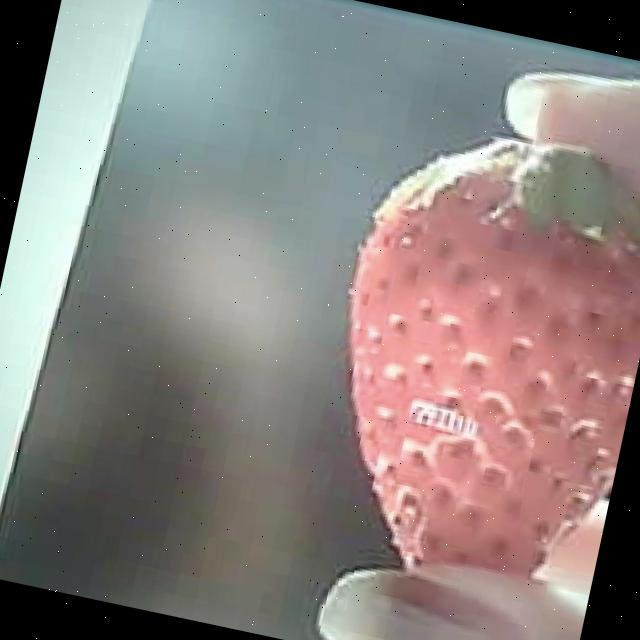strawberry: (300, 125, 640, 600)
